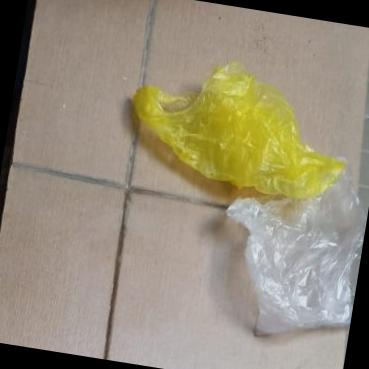Plastik: (120, 46, 358, 205), (206, 139, 369, 349)
